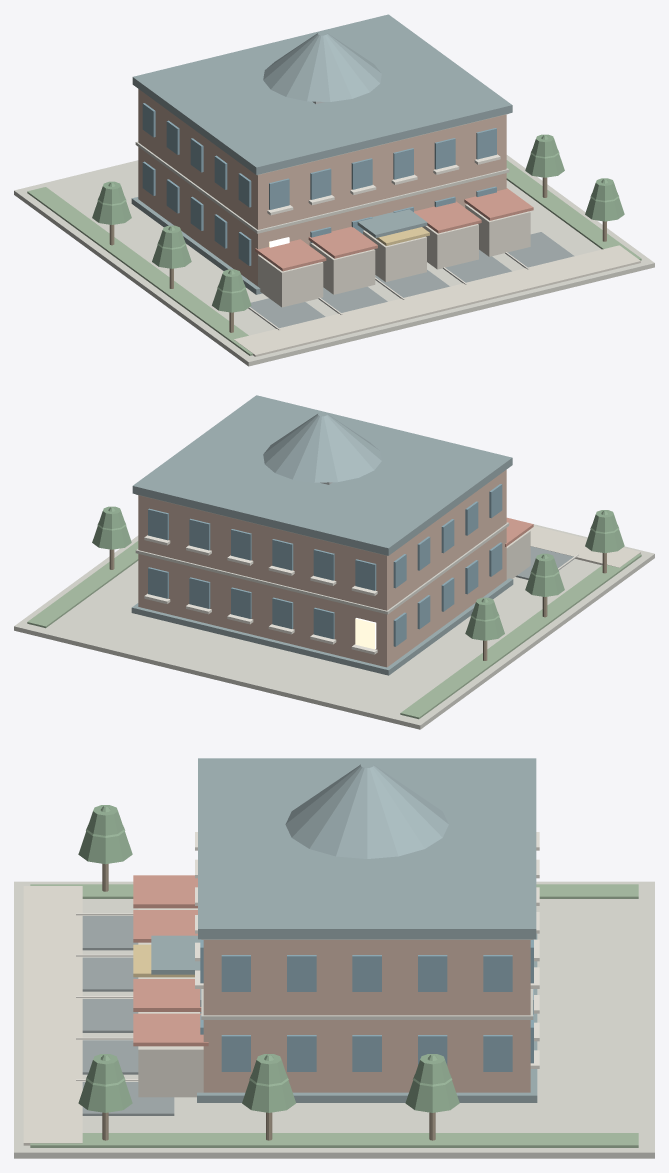
The model's file is remaster_landmark.glb.
The picture shows the model from 3 angles, top to bottom: view 1: azimuth 30°, elevation 25°; view 2: azimuth 150°, elevation 25°; view 3: azimuth 270°, elevation 25°; orthographic projection. The views are drawn at different scales.
Parts seen in each view (by area): view 1: remaster_landmark roof, remaster_landmark brick, remaster_landmark cream, remaster_landmark stone, remaster_landmark glass, remaster_landmark green, remaster_landmark leaf, remaster_landmark asphalt, remaster_landmark red, remaster_landmark white, remaster_landmark bark, remaster_landmark gold; view 2: remaster_landmark roof, remaster_landmark stone, remaster_landmark brick, remaster_landmark glass, remaster_landmark green, remaster_landmark leaf, remaster_landmark cream, remaster_landmark white, remaster_landmark warm, remaster_landmark asphalt; view 3: remaster_landmark roof, remaster_landmark stone, remaster_landmark brick, remaster_landmark cream, remaster_landmark glass, remaster_landmark green, remaster_landmark leaf, remaster_landmark red, remaster_landmark asphalt, remaster_landmark white, remaster_landmark gold, remaster_landmark bark.
Part boxes in pixels (x1,y1,x2,y2): remaster_landmark roof: (131,14,512,294); remaster_landmark brick: (138,89,506,286); remaster_landmark cream: (234,204,640,356); remaster_landmark stone: (14,113,654,366); remaster_landmark glass: (142,103,496,265); remaster_landmark green: (27,160,641,355); remaster_landmark leaf: (92,134,624,312); remaster_landmark asphalt: (248,232,574,328); remaster_landmark red: (255,188,533,271); remaster_landmark white: (249,154,528,330); remaster_landmark bark: (109,177,606,332); remaster_landmark gold: (376,227,429,245); remaster_landmark roof: (131,395,513,675); remaster_landmark stone: (14,494,654,729); remaster_landmark brick: (138,470,506,667); remaster_landmark glass: (148,484,502,646); remaster_landmark green: (27,541,641,719); remaster_landmark leaf: (92,506,624,640); remaster_landmark cream: (506,526,640,579); remaster_landmark white: (144,535,578,654); remaster_landmark warm: (355,618,376,649); remaster_landmark asphalt: (515,546,574,579); remaster_landmark roof: (151,758,537,1102); remaster_landmark stone: (14,881,654,1158); remaster_landmark brick: (203,940,530,1092); remaster_landmark cream: (23,886,203,1145); remaster_landmark glass: (200,939,533,1071); remaster_landmark green: (30,884,638,1147); remaster_landmark leaf: (78,805,459,1112); remaster_landmark red: (133,875,208,1046); remaster_landmark asphalt: (82,916,174,1115); remaster_landmark white: (76,832,539,1080); remaster_landmark gold: (133,944,194,977); remaster_landmark bark: (102,863,435,1140).
Size of the model in its own units: 19.65 by 8.7 by 19.6.
